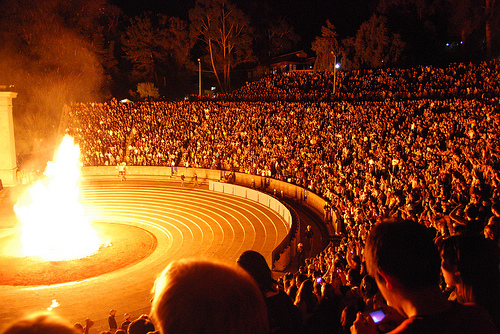fire: (17, 132, 94, 261)
